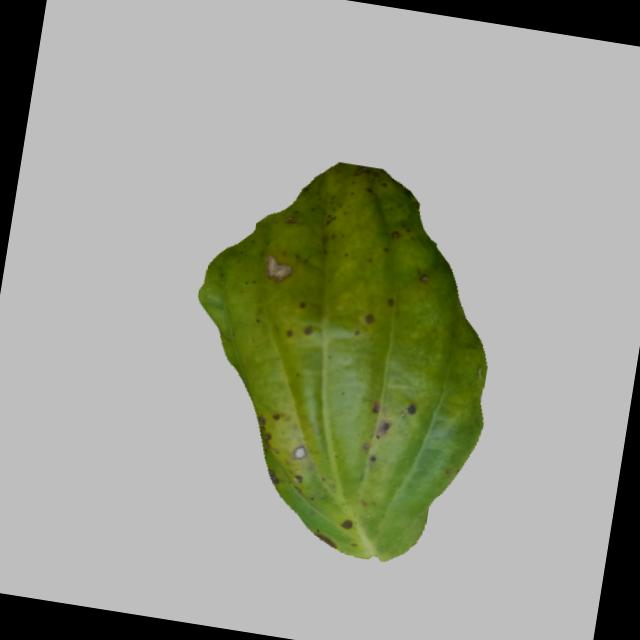yellow-mottle-virus: (157, 147, 534, 578)
